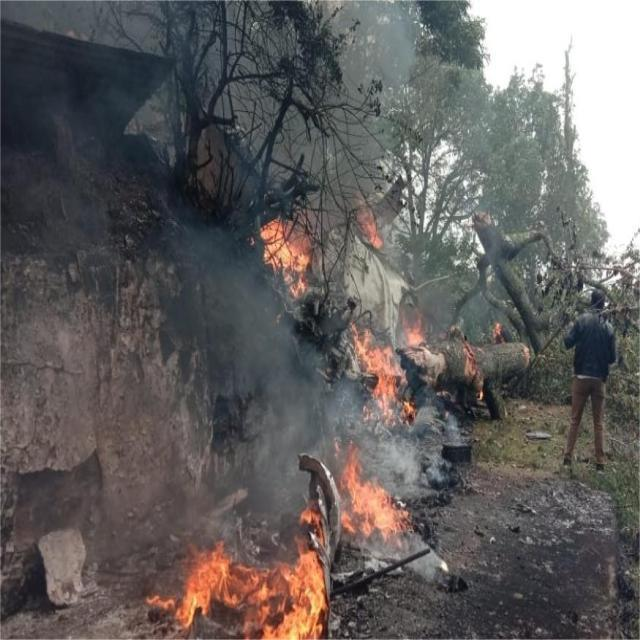Fire: (148, 543, 324, 640), (337, 446, 405, 538), (351, 320, 405, 416), (260, 223, 310, 297)
